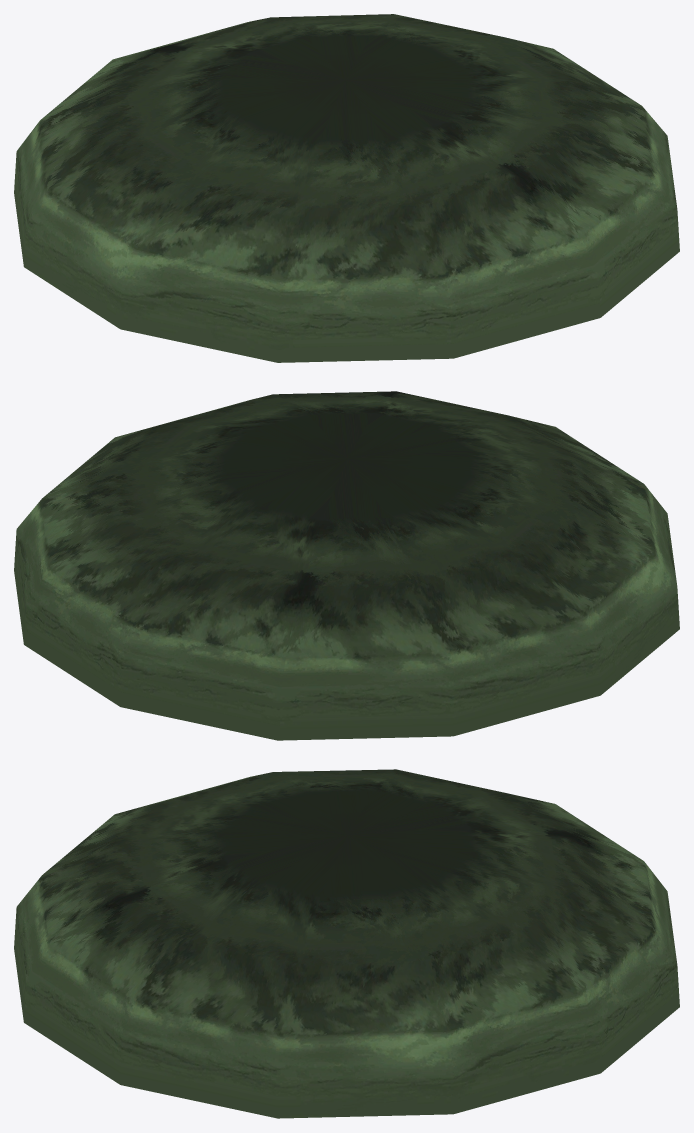
The model's file is stage.glb.
The picture shows the model from 3 angles, top to bottom: view 1: azimuth 30°, elevation 25°; view 2: azimuth 150°, elevation 25°; view 3: azimuth 270°, elevation 25°; orthographic projection.
Parts seen in each view (by area): view 1: KORE_export_West City (Damaged)_mesh; view 2: KORE_export_West City (Damaged)_mesh; view 3: KORE_export_West City (Damaged)_mesh.
Boxes of the visible parts, x1,y1,x2,y2 form: KORE_export_West City (Damaged)_mesh: [14, 14, 679, 362]; KORE_export_West City (Damaged)_mesh: [14, 391, 679, 740]; KORE_export_West City (Damaged)_mesh: [14, 769, 679, 1118].
Size of the model in its own units: 47.56 by 16.34 by 47.56.
13 materials, 13 textured.
